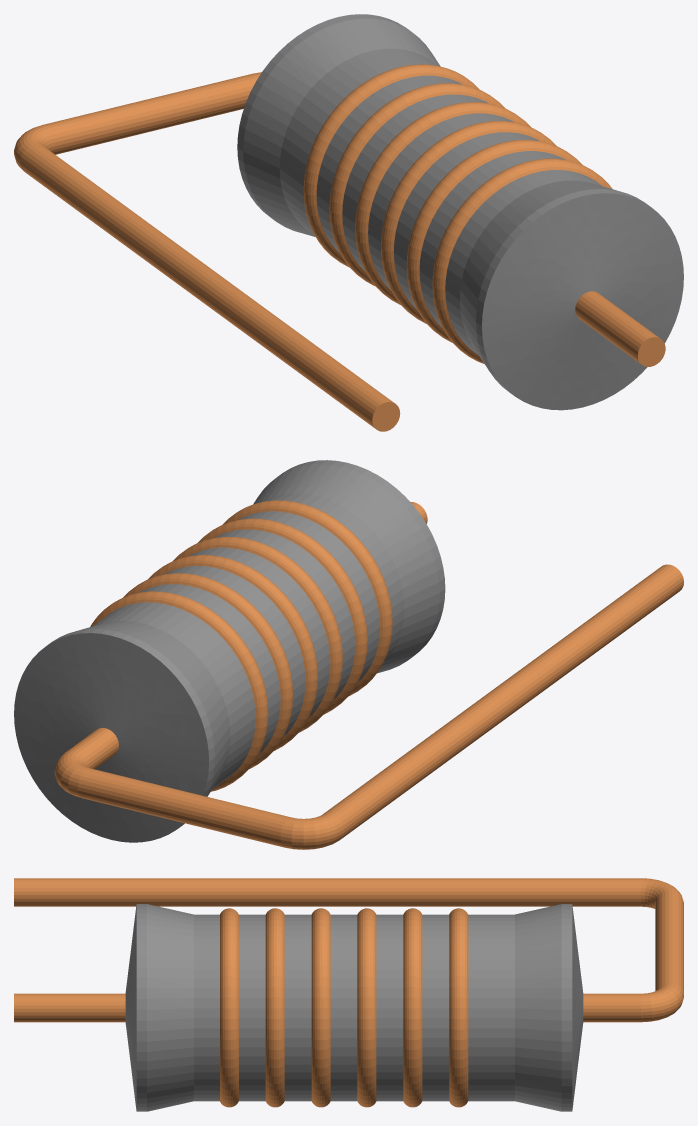
The model's file is L_Axial_L12.8mm_D5.8mm_P7.62mm_Vertical_Fastron_HBCC.glb.
3 views of the same model, one above another, from view 1: azimuth 30°, elevation 25°; view 2: azimuth 150°, elevation 25°; view 3: azimuth 270°, elevation 25° (orthographic). The views are drawn at different scales.
Visible parts, largest first — view 1: Shape_IndexedFaceSet.002, Shape_IndexedFaceSet.025, Shape_IndexedFaceSet.018, Shape_IndexedFaceSet.023, Shape_IndexedFaceSet.017, Shape_IndexedFaceSet.004, Shape_IndexedFaceSet.006, Shape_IndexedFaceSet.012, Shape_IndexedFaceSet.014, Shape_IndexedFaceSet.016, Shape_IndexedFaceSet.010, Shape_IndexedFaceSet.008 (+12 smaller); view 2: Shape_IndexedFaceSet.020, Shape_IndexedFaceSet.025, Shape_IndexedFaceSet.004, Shape_IndexedFaceSet.023, Shape_IndexedFaceSet.017, Shape_IndexedFaceSet.018, Shape_IndexedFaceSet.016, Shape_IndexedFaceSet.006, Shape_IndexedFaceSet.008, Shape_IndexedFaceSet.014, Shape_IndexedFaceSet.010, Shape_IndexedFaceSet.012 (+11 smaller); view 3: Shape_IndexedFaceSet.025, Shape_IndexedFaceSet.018, Shape_IndexedFaceSet.004, Shape_IndexedFaceSet.017, Shape_IndexedFaceSet.009, Shape_IndexedFaceSet.013, Shape_IndexedFaceSet.015, Shape_IndexedFaceSet.011, Shape_IndexedFaceSet.007, Shape_IndexedFaceSet.005, Shape_IndexedFaceSet.012, Shape_IndexedFaceSet.010 (+13 smaller).
Part boxes in pixels (left/top/right/bottom): Shape_IndexedFaceSet.002: left=482, top=193, right=683, bottom=410; Shape_IndexedFaceSet.025: left=20, top=144, right=393, bottom=428; Shape_IndexedFaceSet.018: left=243, top=18, right=440, bottom=236; Shape_IndexedFaceSet.023: left=43, top=73, right=258, bottom=154; Shape_IndexedFaceSet.017: left=279, top=48, right=437, bottom=234; Shape_IndexedFaceSet.004: left=460, top=180, right=616, bottom=369; Shape_IndexedFaceSet.006: left=432, top=158, right=612, bottom=363; Shape_IndexedFaceSet.012: left=355, top=102, right=531, bottom=304; Shape_IndexedFaceSet.014: left=329, top=83, right=505, bottom=285; Shape_IndexedFaceSet.016: left=303, top=64, right=479, bottom=267; Shape_IndexedFaceSet.010: left=381, top=121, right=556, bottom=323; Shape_IndexedFaceSet.008: left=406, top=139, right=582, bottom=342; Shape_IndexedFaceSet.020: left=14, top=633, right=208, bottom=842; Shape_IndexedFaceSet.025: left=323, top=564, right=683, bottom=838; Shape_IndexedFaceSet.004: left=253, top=464, right=439, bottom=673; Shape_IndexedFaceSet.023: left=78, top=768, right=291, bottom=847; Shape_IndexedFaceSet.017: left=93, top=602, right=255, bottom=789; Shape_IndexedFaceSet.018: left=78, top=621, right=230, bottom=796; Shape_IndexedFaceSet.016: left=90, top=591, right=268, bottom=791; Shape_IndexedFaceSet.006: left=222, top=500, right=392, bottom=696; Shape_IndexedFaceSet.008: left=198, top=518, right=367, bottom=714; Shape_IndexedFaceSet.014: left=123, top=573, right=292, bottom=768; Shape_IndexedFaceSet.010: left=173, top=537, right=342, bottom=732; Shape_IndexedFaceSet.012: left=148, top=555, right=317, bottom=750; Shape_IndexedFaceSet.025: left=14, top=878, right=640, bottom=906; Shape_IndexedFaceSet.018: left=515, top=904, right=561, bottom=1111; Shape_IndexedFaceSet.004: left=147, top=904, right=193, bottom=1111; Shape_IndexedFaceSet.017: left=468, top=914, right=514, bottom=1101; Shape_IndexedFaceSet.009: left=284, top=914, right=311, bottom=1101; Shape_IndexedFaceSet.013: left=376, top=914, right=403, bottom=1101; Shape_IndexedFaceSet.015: left=422, top=914, right=449, bottom=1101; Shape_IndexedFaceSet.011: left=330, top=914, right=357, bottom=1101; Shape_IndexedFaceSet.007: left=239, top=914, right=265, bottom=1101; Shape_IndexedFaceSet.005: left=194, top=914, right=219, bottom=1101; Shape_IndexedFaceSet.012: left=357, top=908, right=376, bottom=1107; Shape_IndexedFaceSet.010: left=311, top=908, right=330, bottom=1107.
Bounding box in the file's own units: 4.3 × 2.28 × 7.36.
